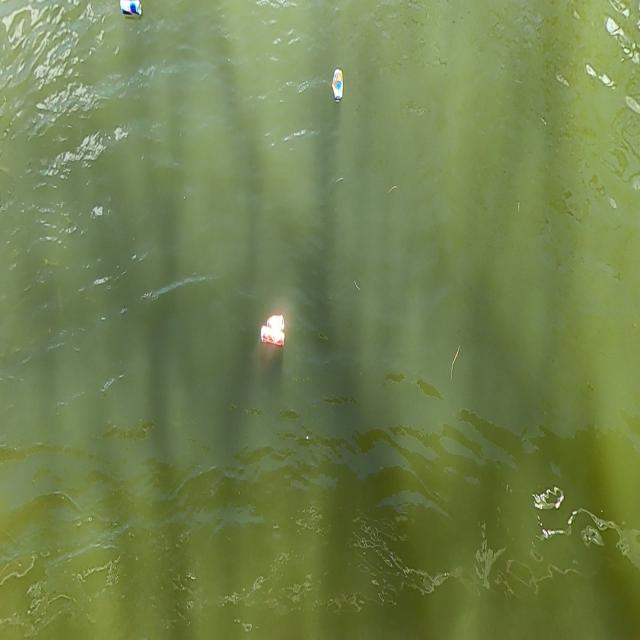Non plastique: (255, 326, 289, 359), (327, 67, 350, 108), (263, 305, 290, 332), (115, 0, 149, 21)
